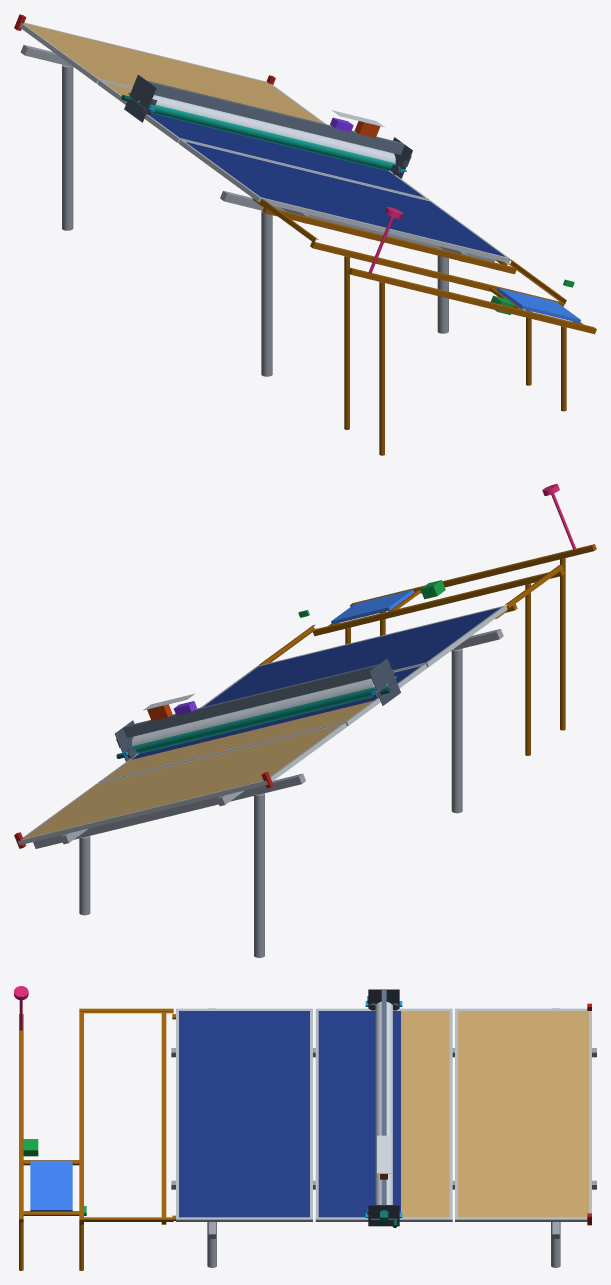
3 views of the same model, one above another, from view 1: azimuth 30°, elevation 25°; view 2: azimuth 150°, elevation 25°; view 3: azimuth 270°, elevation 25° (orthographic). The views are drawn at different scales.
Visible parts, largest first — view 1: Reference PV modules, glass (not in BOM), Dock frame, rails and clamps, Dust film, uncleaned (illustrative), Reference PV modules, frames (not in BOM), Table posts (existing), Chassis beam, 40 x 80 mm, Brush hood, Microfiber brush, 120 mm x 2.2 m, Table purlins and rafters (existing), End trucks and wheels (pair), Dock PV panel, 20 W; view 2: Dust film, uncleaned (illustrative), Reference PV modules, glass (not in BOM), Dock frame, rails and clamps, Table posts (existing), Reference PV modules, frames (not in BOM), Chassis beam, 40 x 80 mm, Table purlins and rafters (existing), Brush hood, Microfiber brush, 120 mm x 2.2 m, End trucks and wheels (pair), Dock PV panel, 20 W; view 3: Reference PV modules, glass (not in BOM), Dust film, uncleaned (illustrative), Reference PV modules, frames (not in BOM), Dock frame, rails and clamps, Brush hood, Dock PV panel, 20 W, End trucks and wheels (pair), Chassis beam, 40 x 80 mm, Table posts (existing), Table purlins and rafters (existing).
Boxes of the visible parts, x1,y1,x2,y2 form: Reference PV modules, glass (not in BOM): [149, 113, 505, 256]; Dock frame, rails and clamps: [252, 198, 596, 455]; Dust film, uncleaned (illustrative): [24, 23, 323, 123]; Reference PV modules, frames (not in BOM): [19, 22, 510, 262]; Table posts (existing): [62, 64, 448, 376]; Chassis beam, 40 x 80 mm: [147, 80, 404, 154]; Brush hood: [152, 95, 395, 162]; Microfiber brush, 120 mm x 2.2 m: [137, 100, 395, 170]; Table purlins and rafters (existing): [20, 45, 495, 262]; End trucks and wheels (pair): [124, 74, 412, 178]; Dock PV panel, 20 W: [497, 288, 580, 322]; Dust film, uncleaned (illustrative): [22, 701, 372, 839]; Reference PV modules, glass (not in BOM): [131, 607, 500, 759]; Dock frame, rails and clamps: [259, 544, 596, 755]; Table posts (existing): [79, 648, 462, 957]; Reference PV modules, frames (not in BOM): [18, 605, 507, 845]; Chassis beam, 40 x 80 mm: [123, 664, 378, 737]; Table purlins and rafters (existing): [33, 629, 503, 848]; Brush hood: [132, 678, 374, 745]; Microfiber brush, 120 mm x 2.2 m: [131, 684, 387, 753]; End trucks and wheels (pair): [115, 658, 400, 761]; Dock PV panel, 20 W: [331, 589, 414, 624]; Reference PV modules, glass (not in BOM): [179, 1011, 400, 1217]; Dust film, uncleaned (illustrative): [401, 1011, 588, 1217]; Reference PV modules, frames (not in BOM): [176, 1008, 591, 1221]; Dock frame, rails and clamps: [19, 1008, 175, 1270]; Brush hood: [375, 1001, 392, 1204]; Dock PV panel, 20 W: [30, 1160, 72, 1211]; End trucks and wheels (pair): [367, 989, 399, 1226]; Chassis beam, 40 x 80 mm: [381, 990, 386, 1204]; Table posts (existing): [207, 1222, 560, 1267]; Table purlins and rafters (existing): [171, 1008, 596, 1238].
Size of the model in its own units: 2.36 by 1.92 by 4.82.
